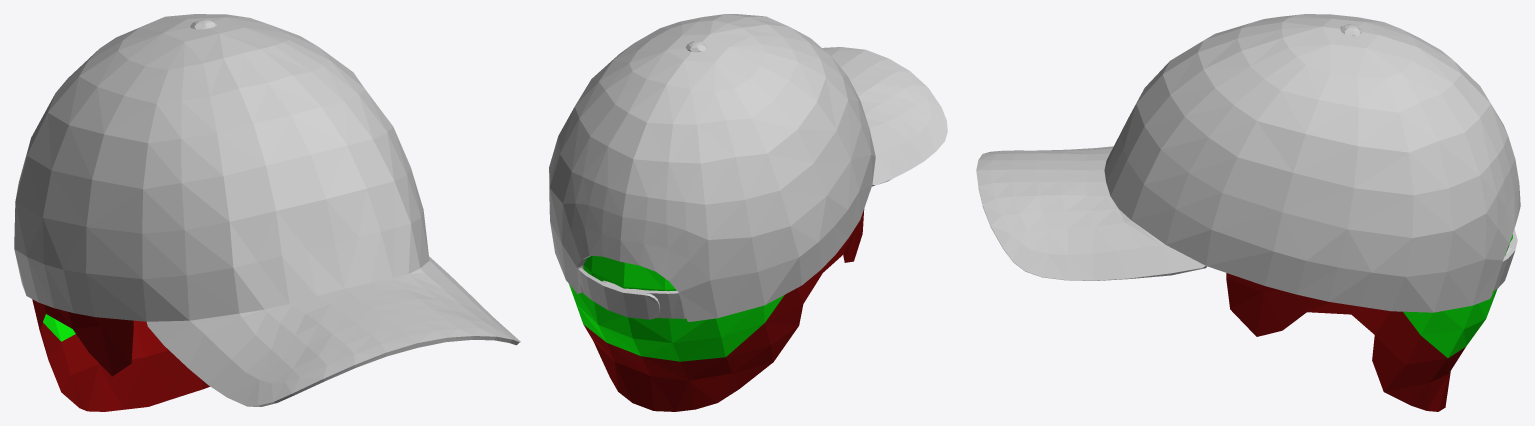
The model's file is BaseballHat_Hair_03.obj.
The picture shows the model from 3 angles, left to right: view 1: azimuth 30°, elevation 25°; view 2: azimuth 150°, elevation 25°; view 3: azimuth 270°, elevation 25°; orthographic projection. The views are drawn at different scales.
Size of the model in its own units: 16.43 by 20.26 by 26.84.
